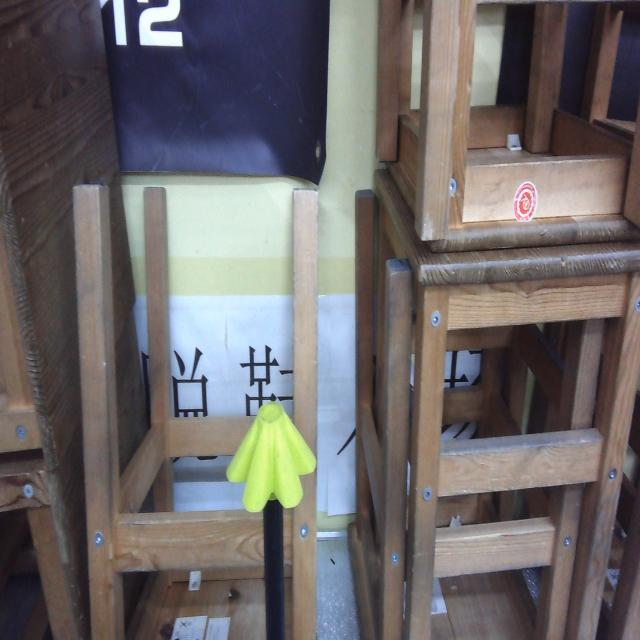Yellow-Stake-Head: (226, 401, 316, 513)
